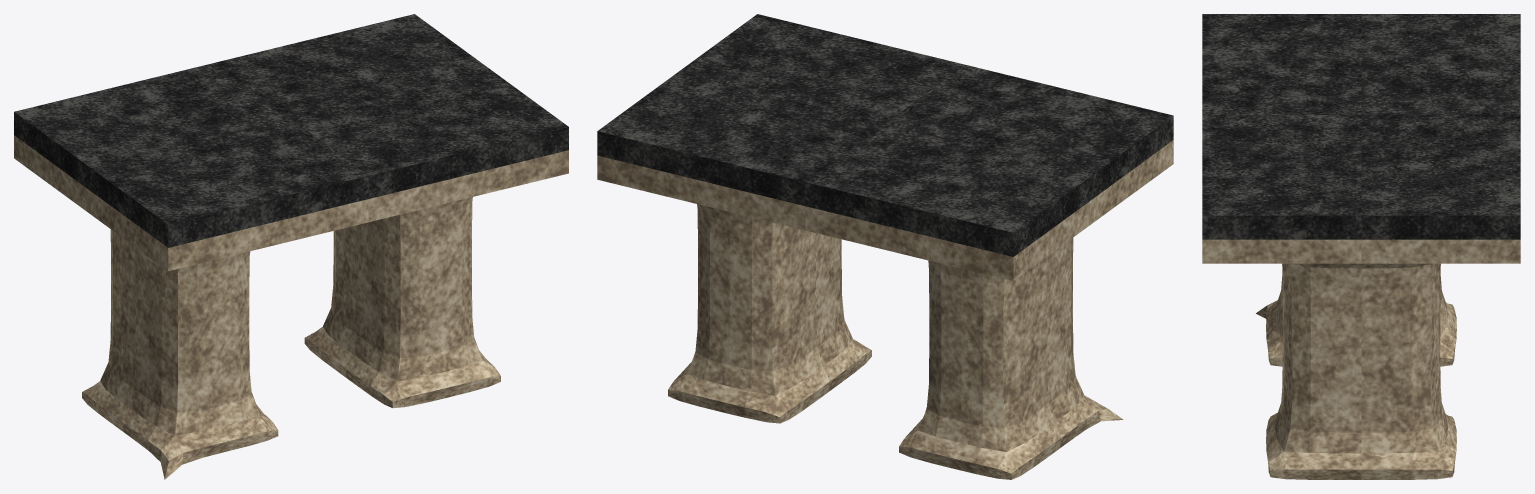
File: stone_table.glb
3 views of the same model, side by side, from view 1: azimuth 30°, elevation 25°; view 2: azimuth 150°, elevation 25°; view 3: azimuth 270°, elevation 25° (orthographic). The views are drawn at different scales.
Parts seen in each view (by area): view 1: crypt_stone_table; view 2: crypt_stone_table; view 3: crypt_stone_table.
Part boxes in pixels (<box>): crypt_stone_table: <box>14,14,568,479</box>; crypt_stone_table: <box>597,14,1173,479</box>; crypt_stone_table: <box>1202,14,1520,479</box>.
Bounding box in the file's own units: 1.12 × 0.75 × 0.75.
1 material, 1 textured.
